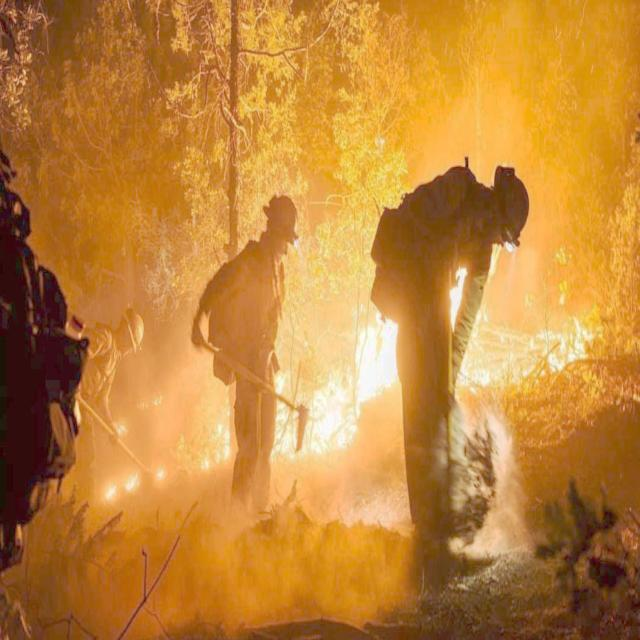api: (308, 314, 404, 452), (536, 308, 595, 382), (104, 483, 119, 506), (153, 468, 168, 489), (124, 473, 138, 494)
